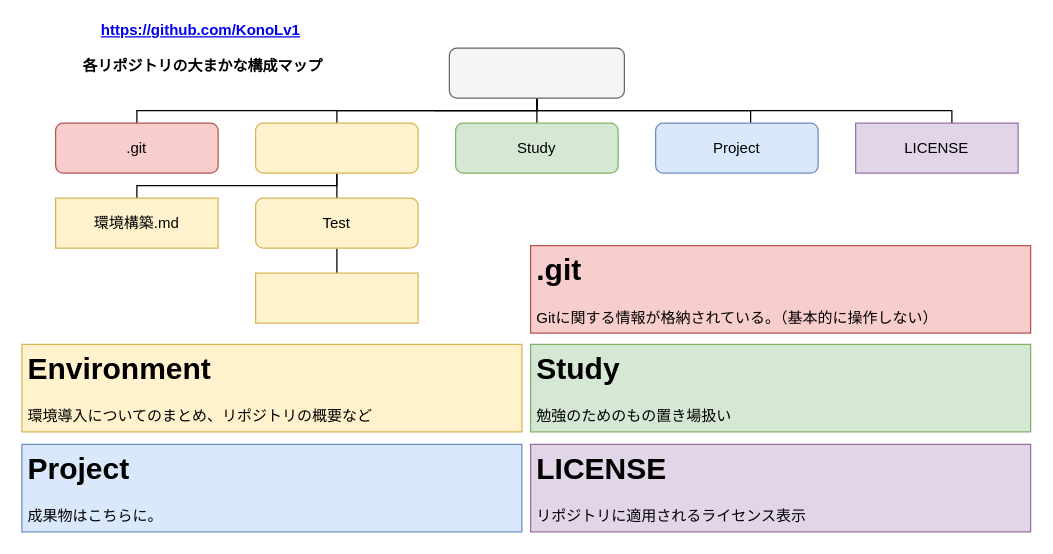
Some shapes in this 1053 by 554 pixel diagram are drawn without their labels. The centre of each missing label's shape, as x and y in pixels:
"Environment" goes at (336,147).
"test.〇〇" goes at (336,297).
"リポジトリ名" goes at (536,72).
